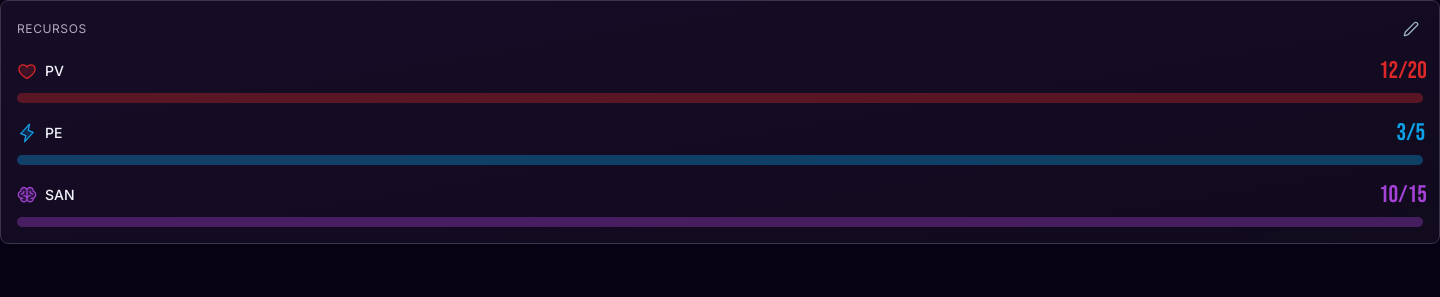
Test: Confirmação de recursos: card mobile › rejeita PE inválido 2.5 sem salvar nem truncar
Click the button named "Editar recursos".
click(1411, 29)  # box [1399,17,1423,41]
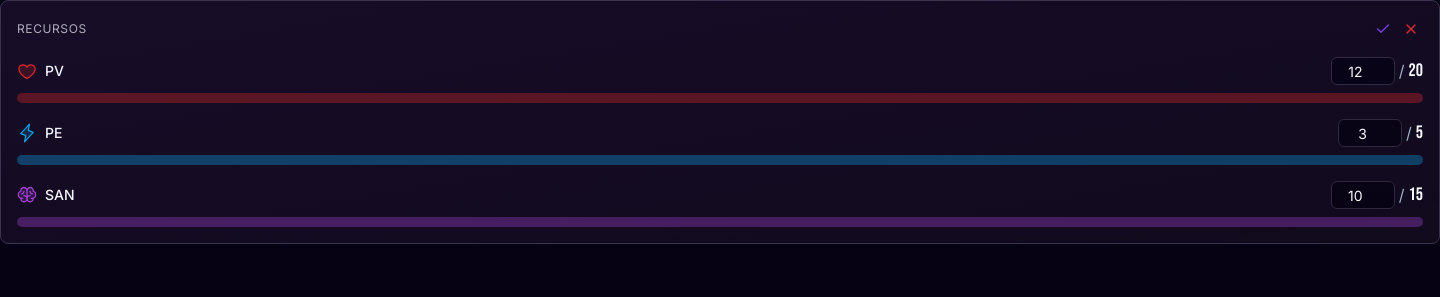
Replace the text in the number field named "PE atual" with "2.5" at (1370, 133), box [1338,119,1402,147]
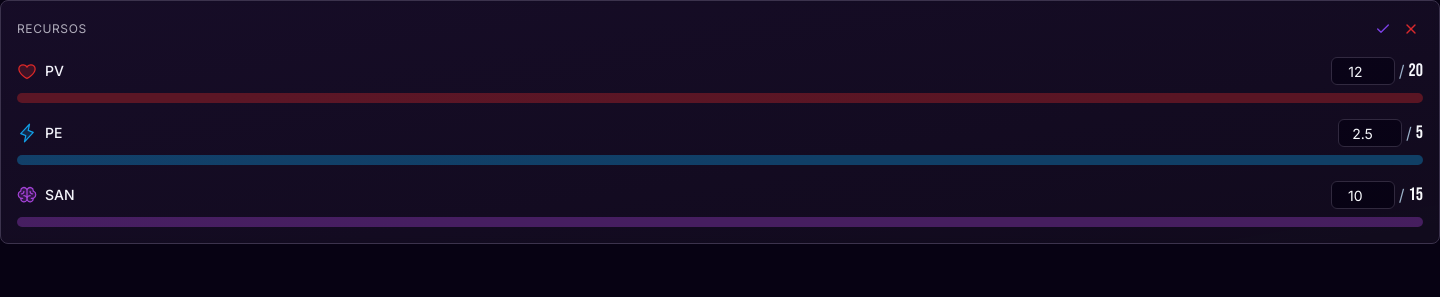
Click the button named "Salvar recursos".
click(1383, 29)  # box [1371,17,1395,41]
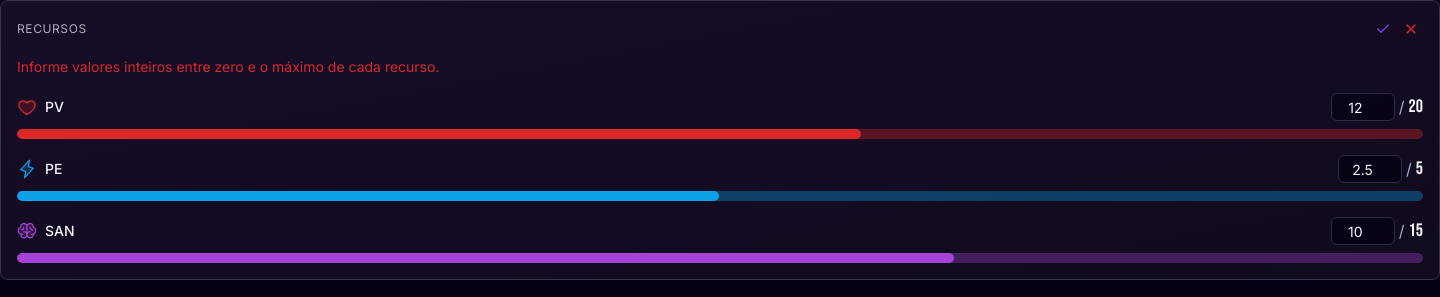
Result: the message shows "valores inteiros" at [17,58,440,75]
